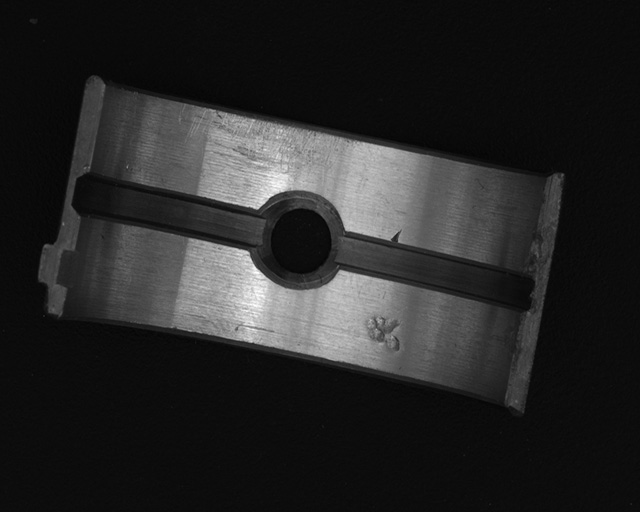bruise: (364, 315, 403, 354), (390, 228, 403, 244)
gap: (336, 233, 537, 309), (73, 175, 265, 251)
hole: (254, 194, 343, 287)
scratch: (177, 100, 352, 185)
